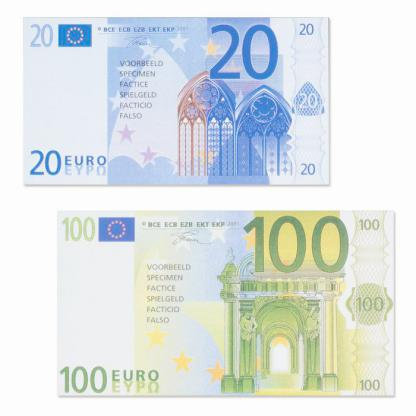euro_banknote: (57, 210, 398, 398), (23, 18, 332, 187)
